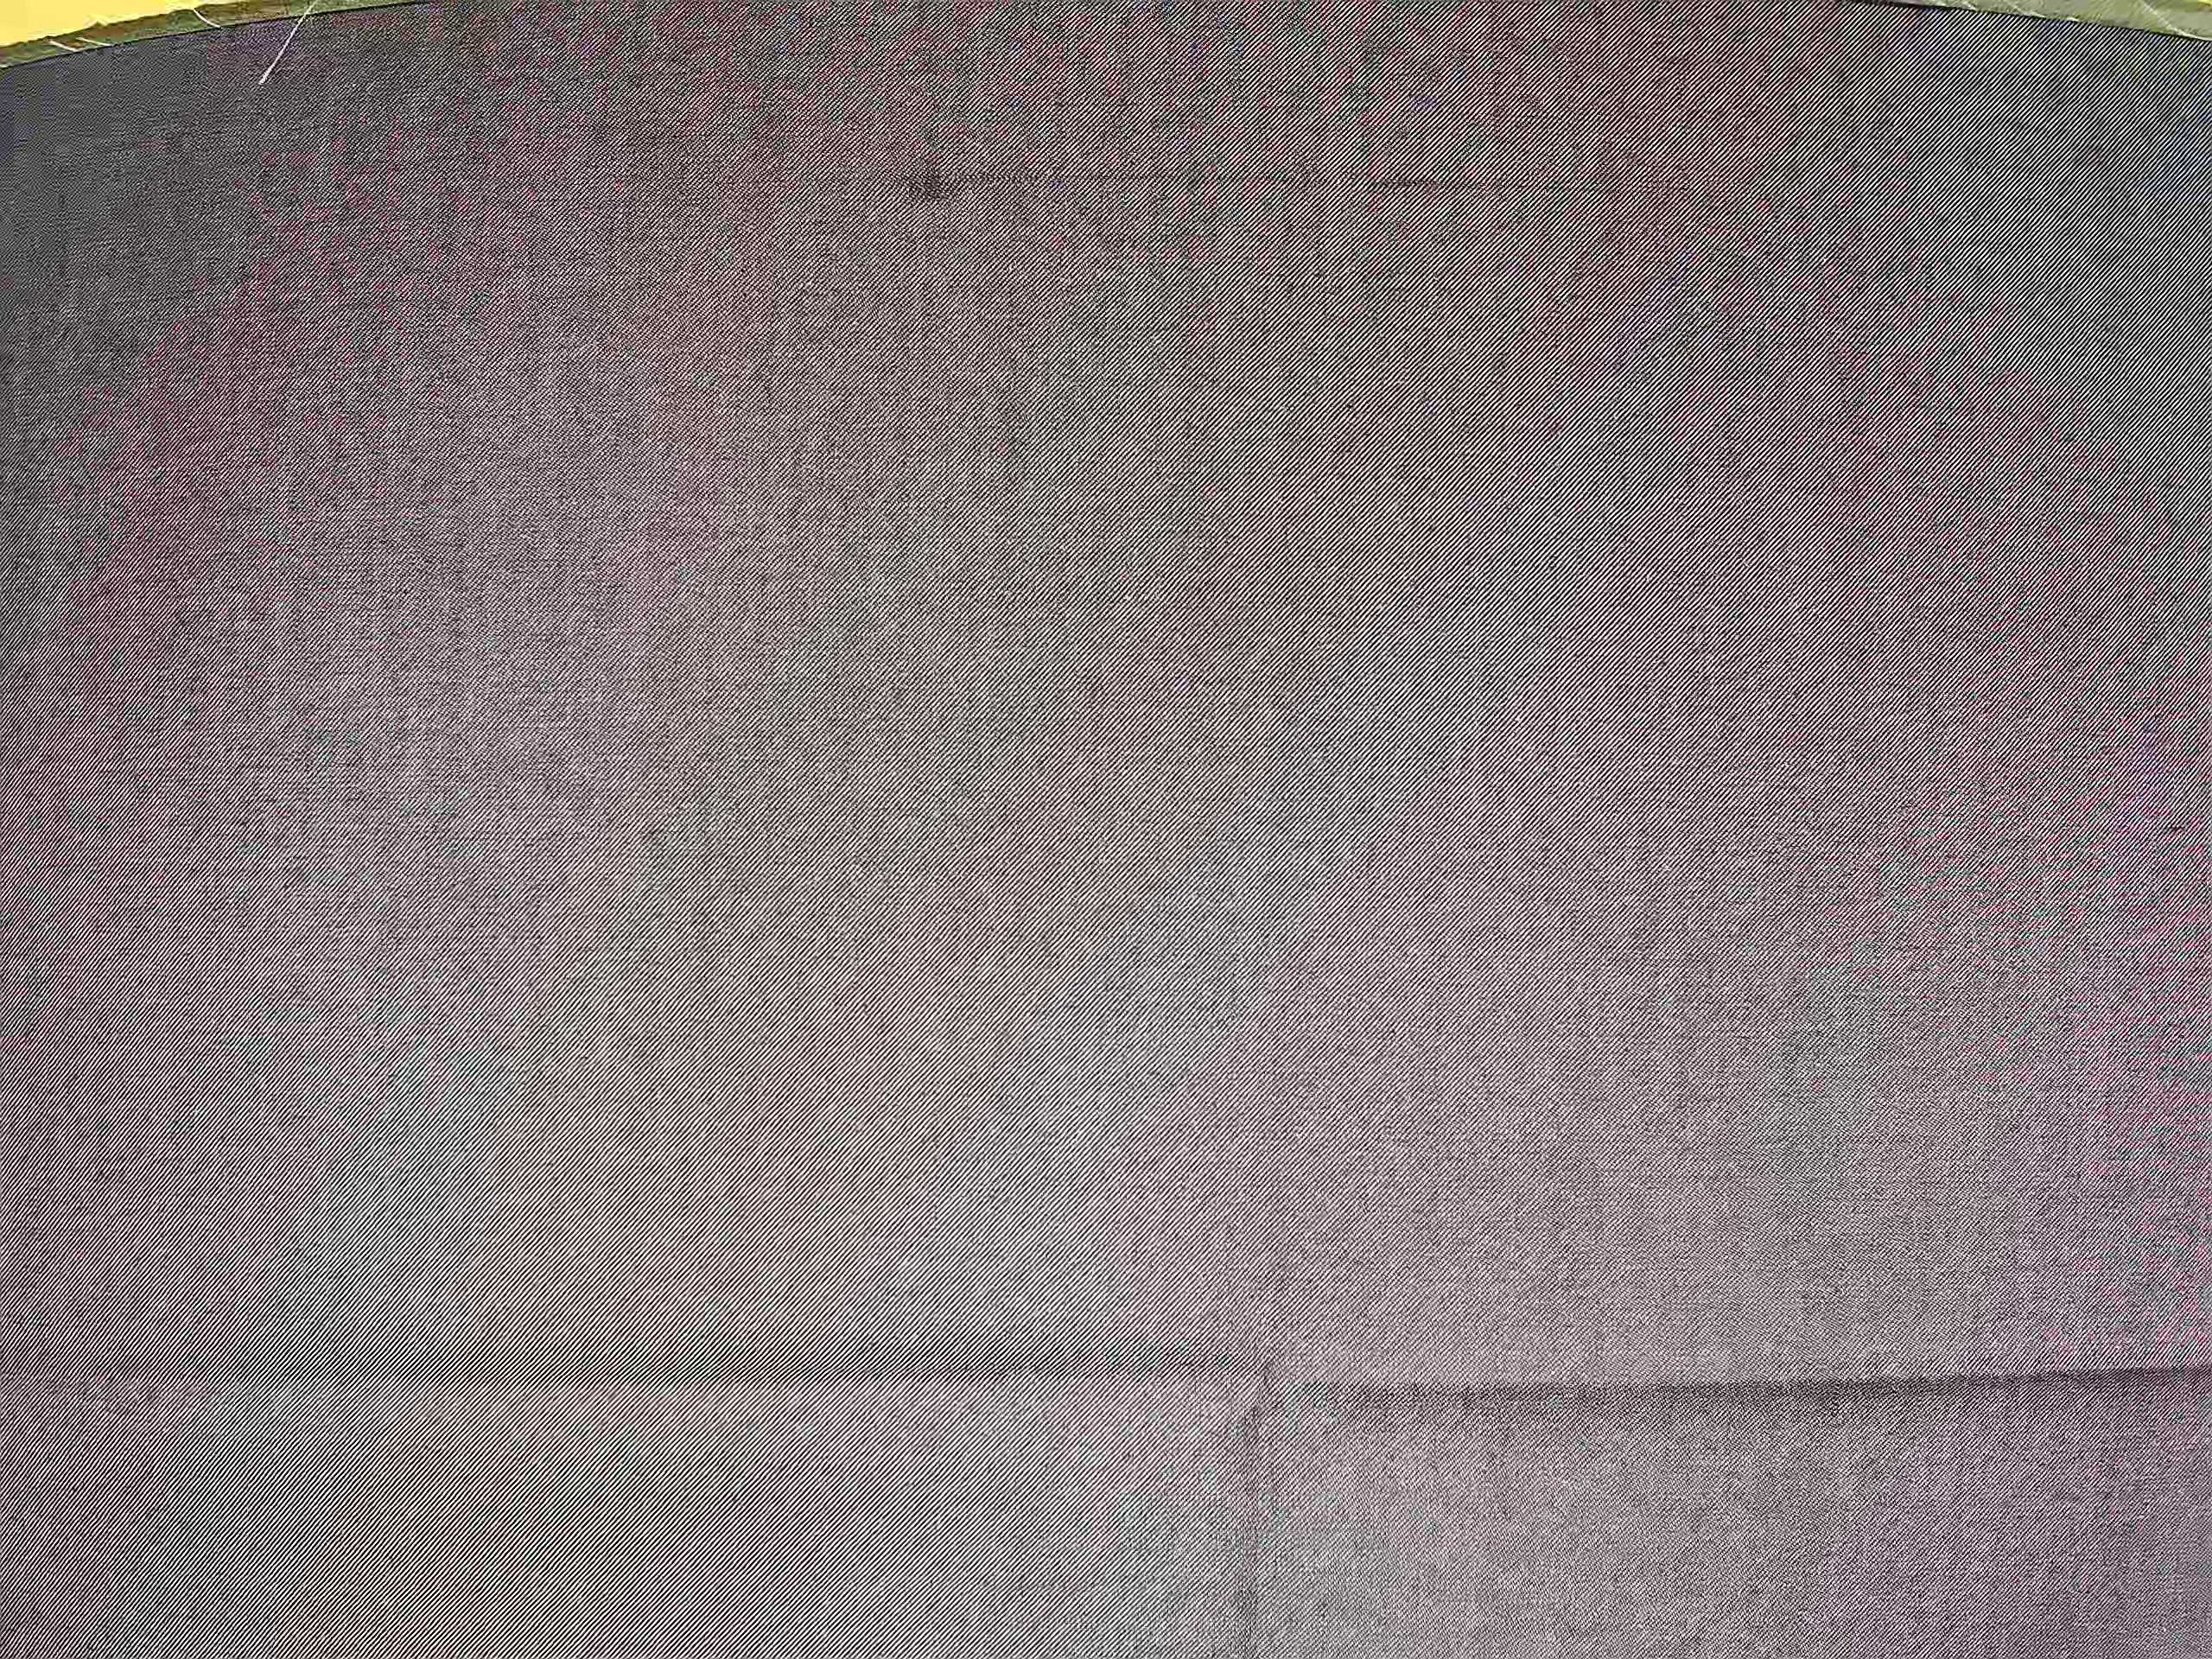thin-spinning: (812, 145, 1702, 216)
